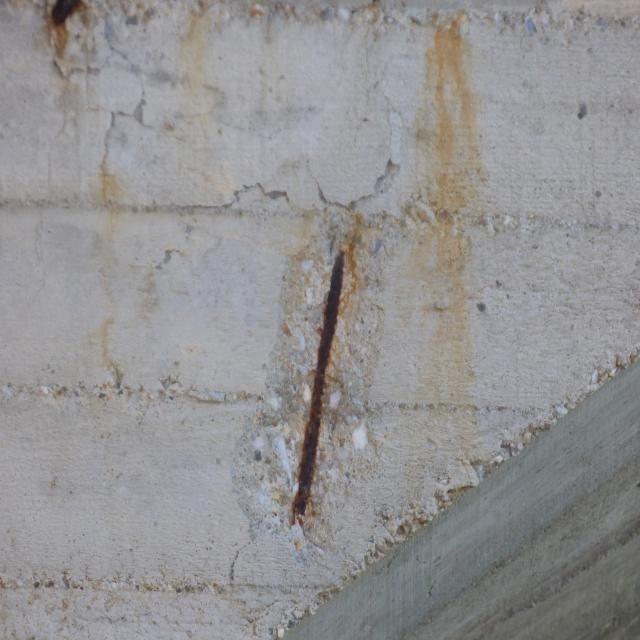corrosion: (30, 0, 204, 389), (264, 183, 382, 542), (406, 2, 496, 459)
